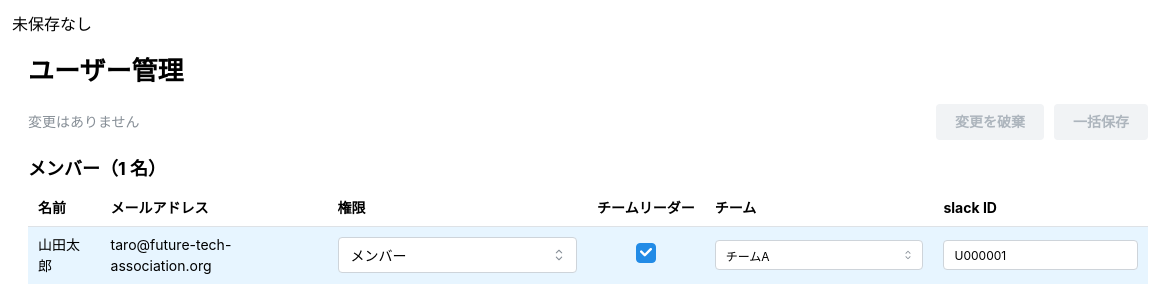
管理画面の未保存の変更の共有（DashboardUnsavedChangesProvider） › UserList の未保存の変更を報告し、値を戻すと解除する
Replace the text in the field named "山田太郎の Slack ID" with "U999" at [1041, 255], box 944,240 -> 1138,270
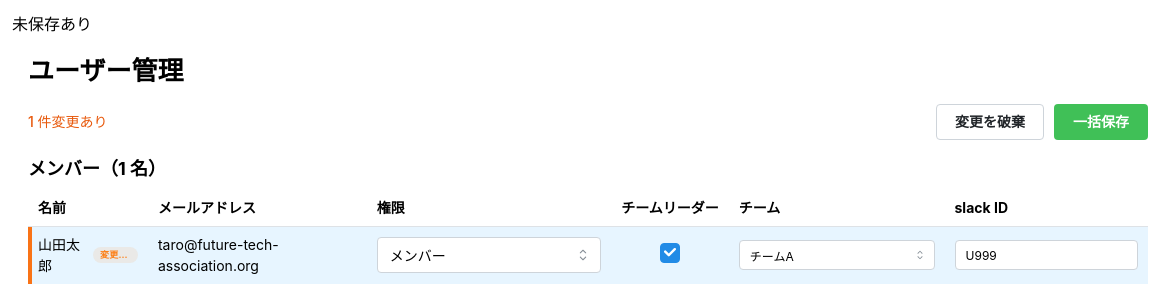
Expected: the text with test id "probe" reads "未保存あり", 12,14 -> 92,34
Replace the text in the field named "山田太郎の Slack ID" with "U000001" at [1046, 255], box 954,240 -> 1138,270
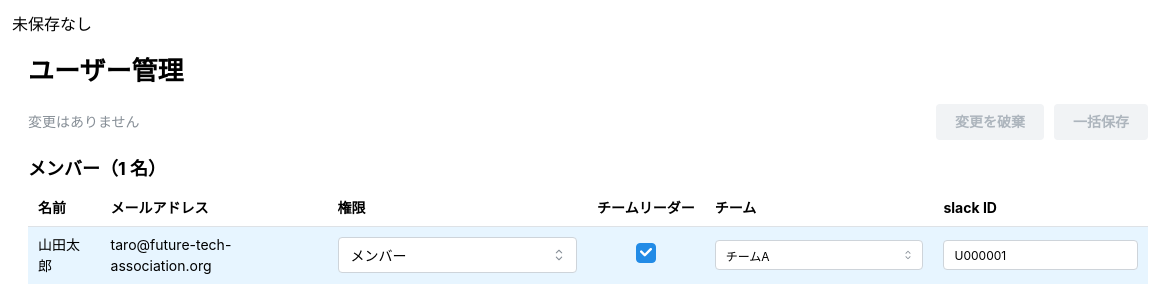
Expected: the text with test id "probe" reads "未保存なし", 12,14 -> 92,34
